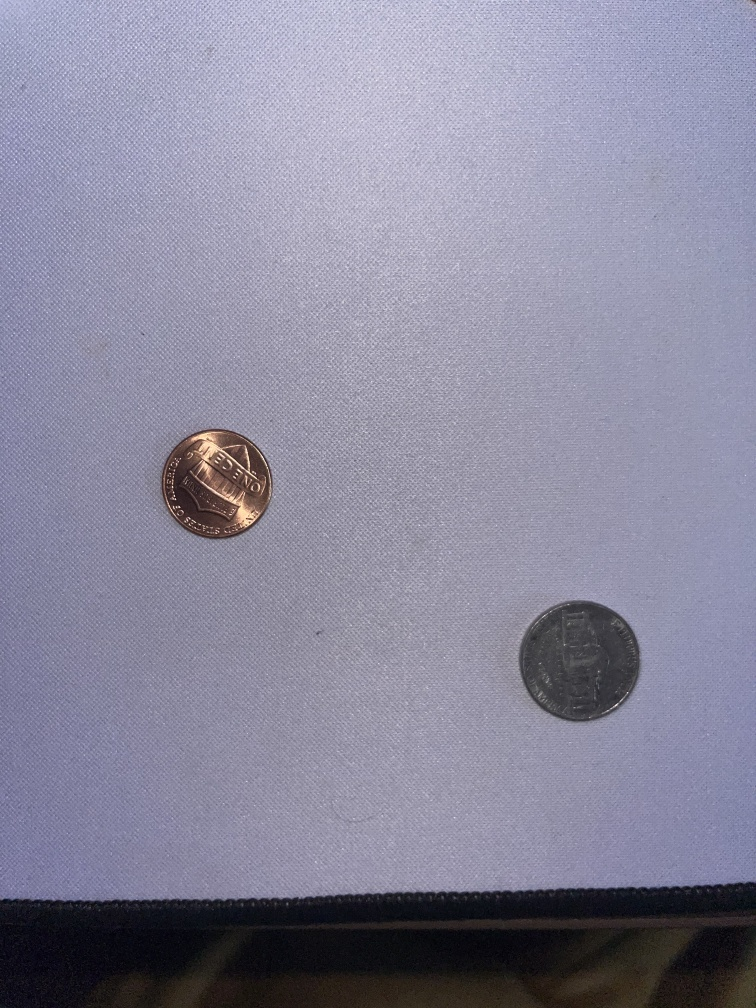nickel: (512, 595, 645, 727)
penny: (153, 422, 279, 545)
